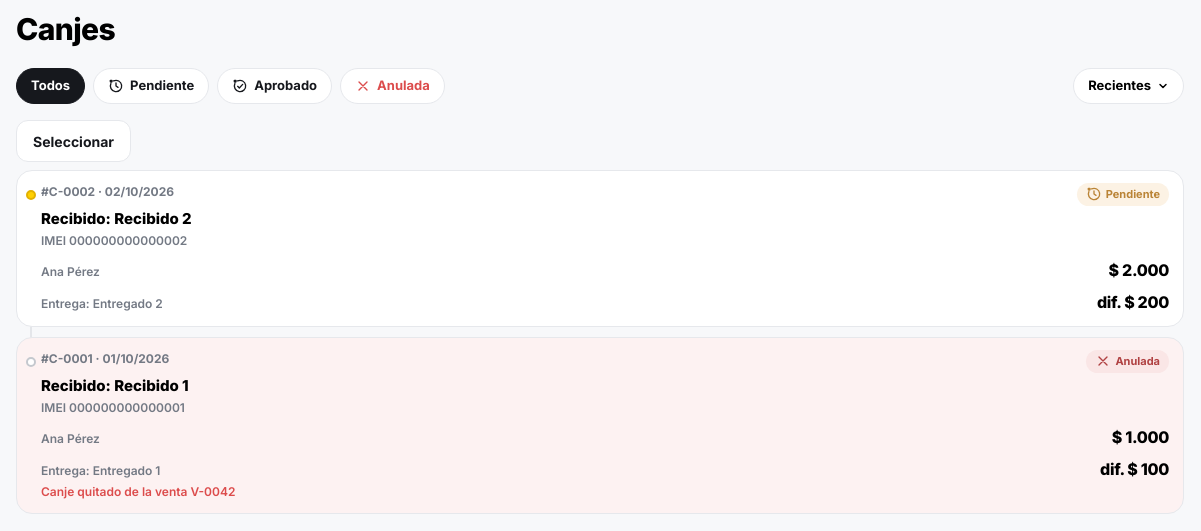
Trade-ins on a phone › shows the same cancelled state and removed-sale reference in the mobile timeline
The image size is (1201, 531).
Check: the text "Anulada" has style "--pc: #DC4C4C", box [1086,350,1169,372]
Check: the text "Canje quitado de la venta V-0042" is shown, box [41,483,235,501]
Click the button "Anulada" at (392, 86), box [340,68,445,104]
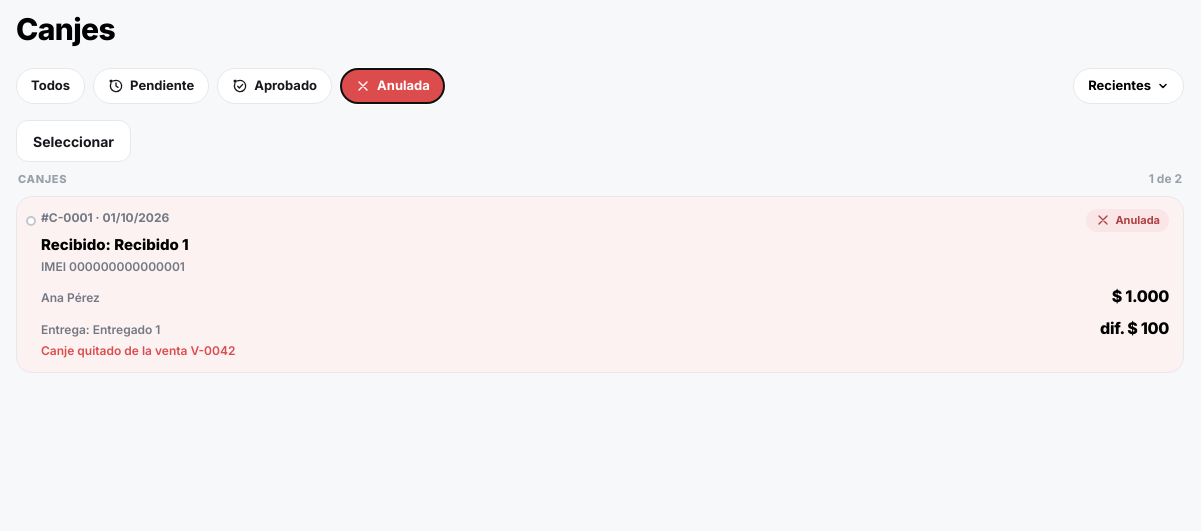
Check: the button "Recibido: Recibido 2" is gone
Check: the text "1 de 2" is shown, box [1149,170,1182,188]
